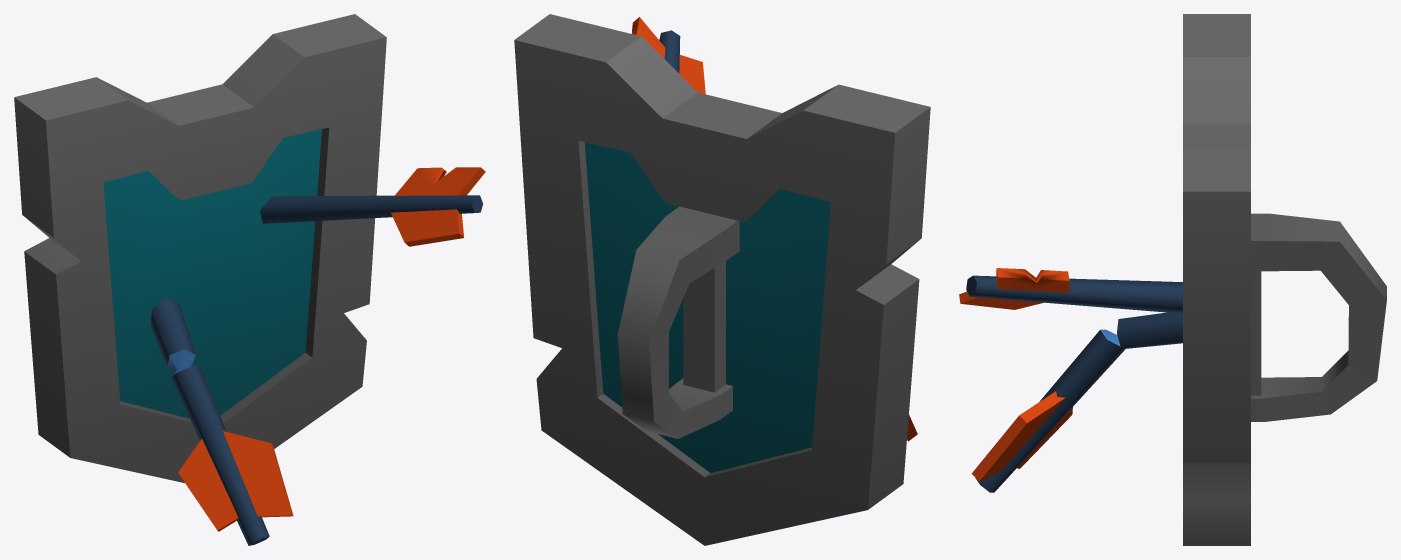
The model's file is Shield_RHand_11.fbx.
The picture shows the model from 3 angles, left to right: view 1: azimuth 30°, elevation 25°; view 2: azimuth 150°, elevation 25°; view 3: azimuth 270°, elevation 25°; orthographic projection. The views are drawn at different scales.
Visible parts, largest first — view 1: Shield_RHand_11; view 2: Shield_RHand_11; view 3: Shield_RHand_11.
Boxes of the visible parts, left/top/right/bottom form: Shield_RHand_11: left=14, top=14, right=485, bottom=545; Shield_RHand_11: left=514, top=14, right=930, bottom=545; Shield_RHand_11: left=959, top=14, right=1386, bottom=545.
Bounding box in the file's own units: 43.61 × 48.51 × 42.81.
